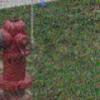a fire hydrant: (0, 20, 32, 100)
